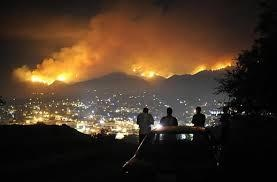fire: (130, 59, 235, 79), (26, 68, 77, 85)
